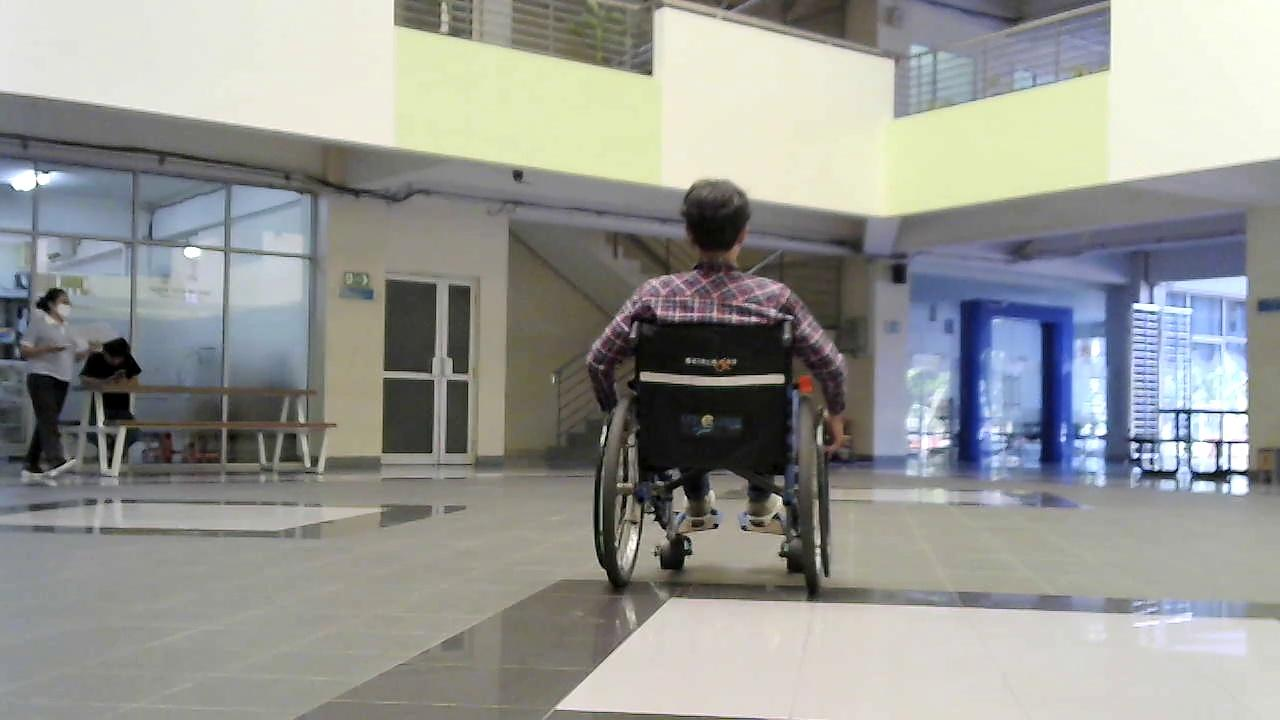person: (585, 177, 852, 471), (15, 285, 86, 477)
wheelchair: (568, 290, 844, 615)
